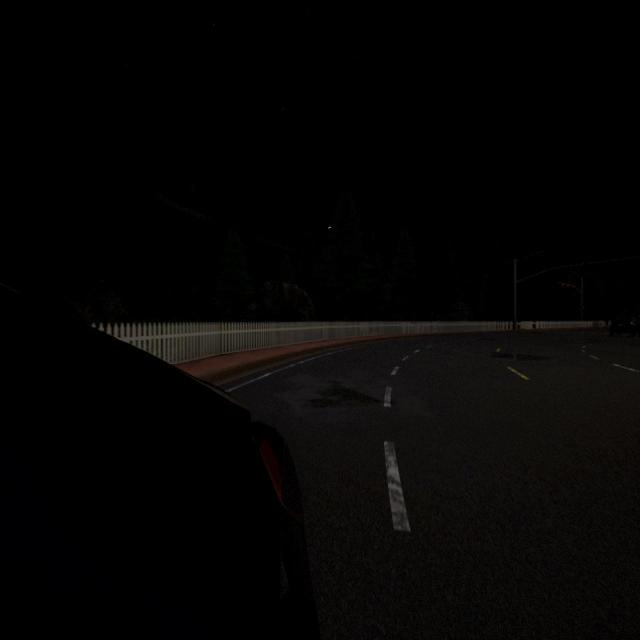Vehicle: (0, 288, 318, 640), (609, 312, 638, 336)
traffic_light: (562, 283, 564, 288), (567, 284, 569, 288), (573, 286, 575, 290)
